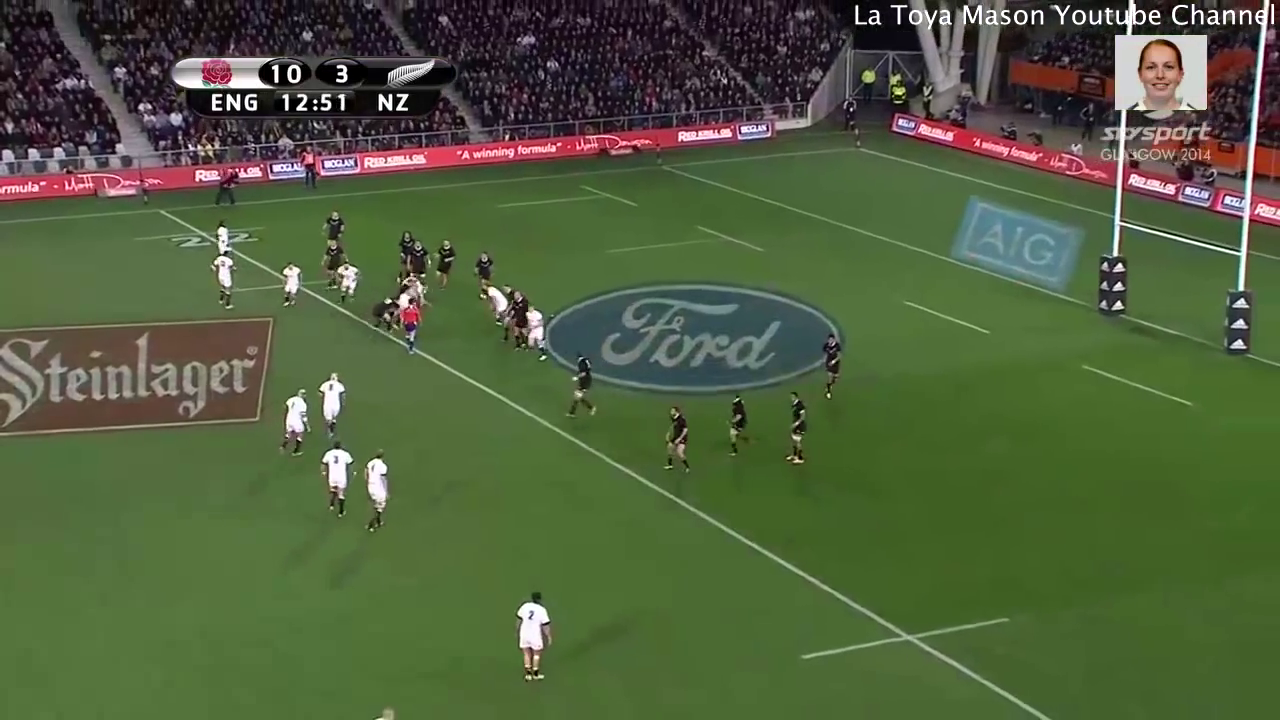player: (509, 586, 557, 687), (355, 445, 403, 537), (314, 435, 356, 524), (270, 382, 309, 464), (777, 388, 814, 468), (560, 348, 597, 427), (313, 368, 352, 440), (657, 402, 693, 480), (721, 387, 757, 461), (815, 330, 849, 402), (206, 248, 238, 320), (506, 289, 538, 355), (277, 256, 310, 314), (427, 236, 458, 295), (318, 236, 349, 293), (398, 293, 424, 360), (481, 285, 516, 334), (522, 304, 549, 365), (405, 237, 437, 286), (210, 214, 240, 264), (334, 259, 361, 309), (393, 227, 416, 281), (474, 250, 498, 299), (319, 208, 348, 247), (369, 296, 397, 336)
post: (1082, 167, 1265, 366)
